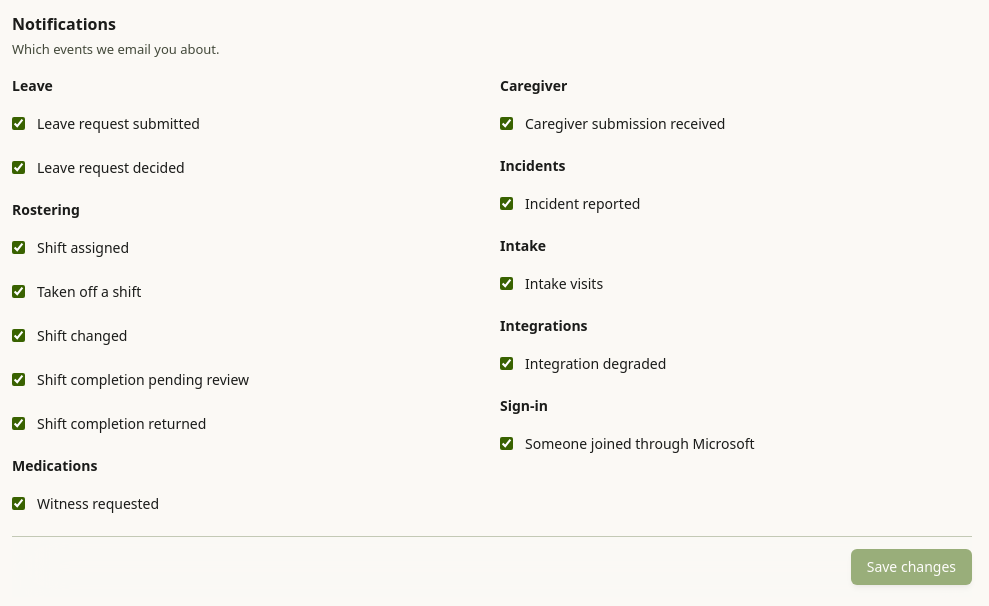
NotificationPreferencesTab › saves every Email tick with the one Save, then says Saved
Expected: the button "Save changes" is disabled, [851,548,972,584]
Click the checkbox labelled "Leave request submitted" at (18, 124), box [12,117,25,130]
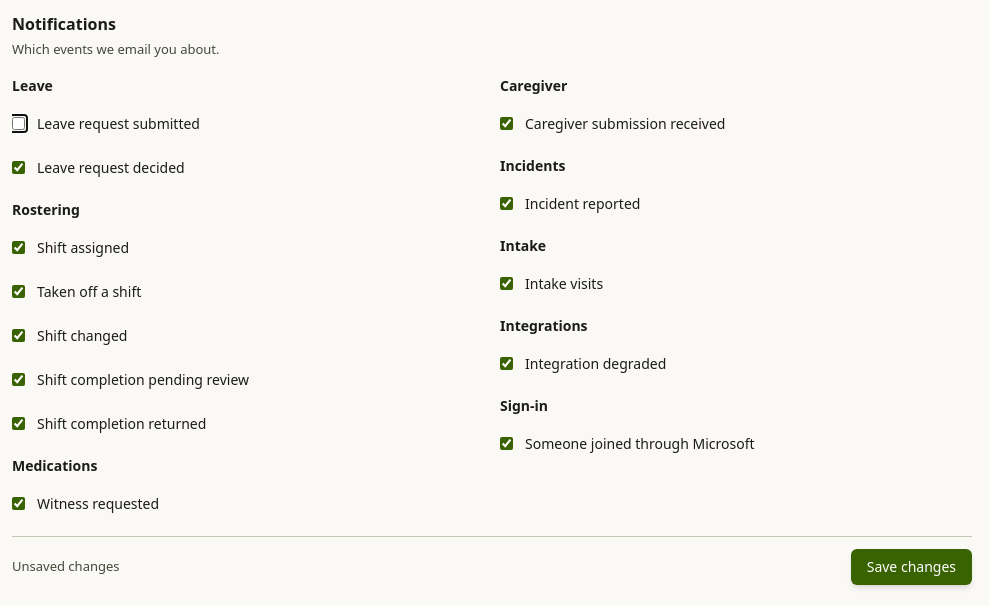
Click the button "Save changes" at (911, 566), box [851,548,972,584]
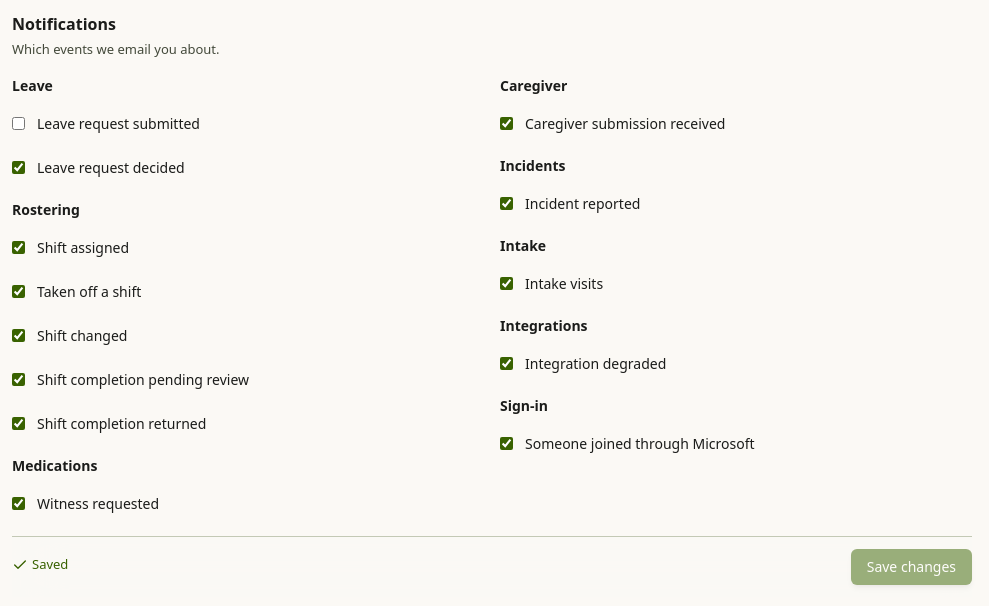
Expected: the message reads "Saved", [32,555,68,573]
